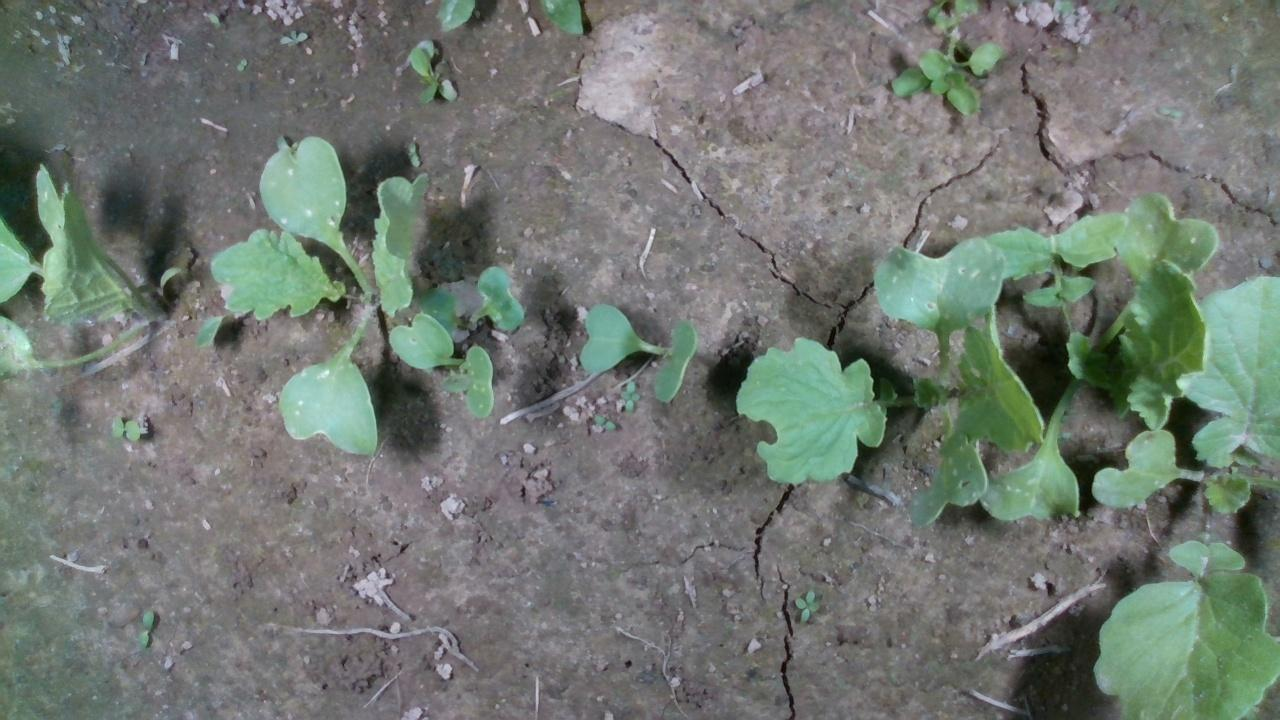weed: (107, 413, 143, 441), (792, 587, 819, 623), (135, 607, 155, 648), (617, 377, 640, 412), (274, 27, 308, 46), (403, 139, 421, 168), (592, 413, 615, 431), (236, 56, 249, 71)
